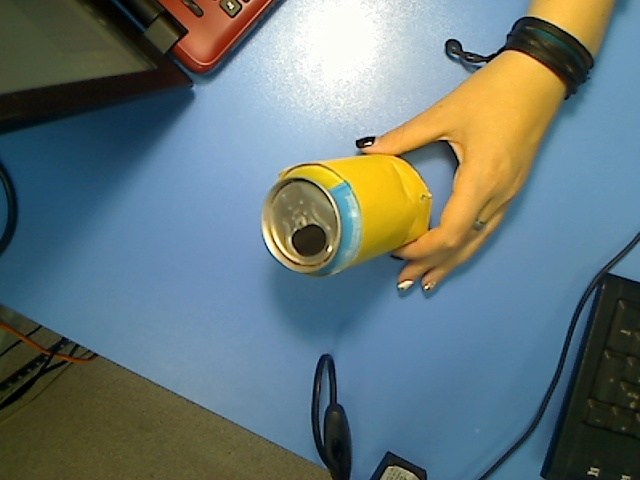can: (261, 151, 437, 278)
